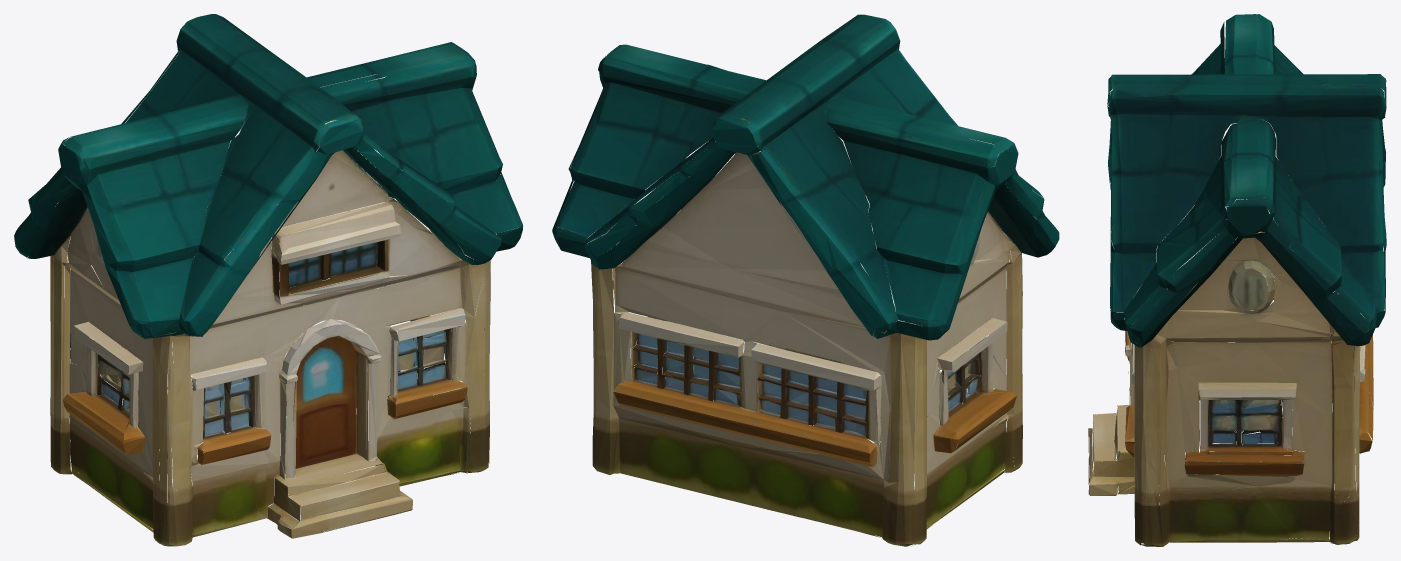
The model's file is teal_roof_building.glb.
The picture shows the model from 3 angles, left to right: view 1: azimuth 30°, elevation 25°; view 2: azimuth 150°, elevation 25°; view 3: azimuth 270°, elevation 25°; orthographic projection. The views are drawn at different scales.
Visible parts, largest first — view 1: geometry_0; view 2: geometry_0; view 3: geometry_0.
Part boxes in pixels (x1,y1,x2,y2): geometry_0: (14,14,523,546); geometry_0: (552,14,1059,546); geometry_0: (1088,14,1386,546).
Size of the model in its own units: 0.9985 by 0.9624 by 0.667.
1 material, 1 textured.
